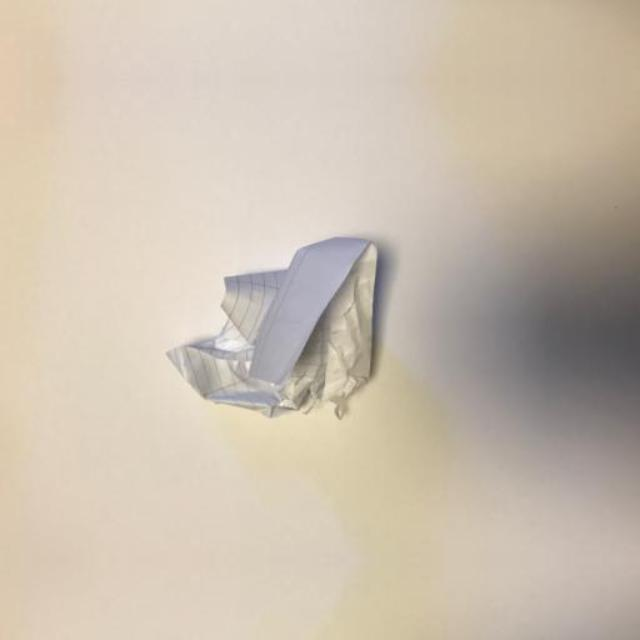paper: (140, 212, 430, 446)
